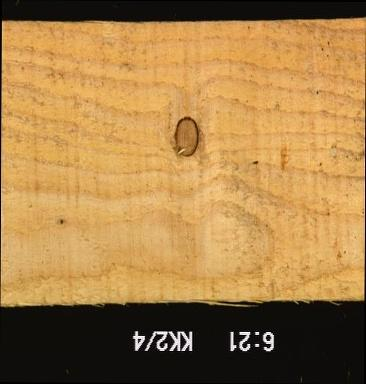dry_knot: (171, 115, 201, 158)
small_knot: (58, 217, 65, 226)
